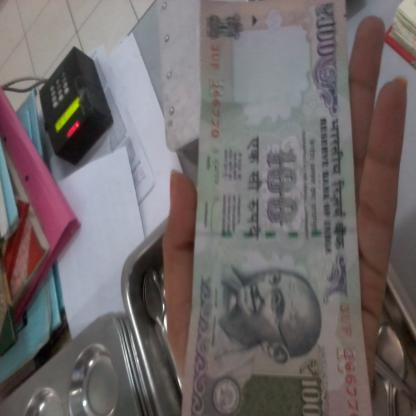Old100Front: (182, 0, 375, 416)
